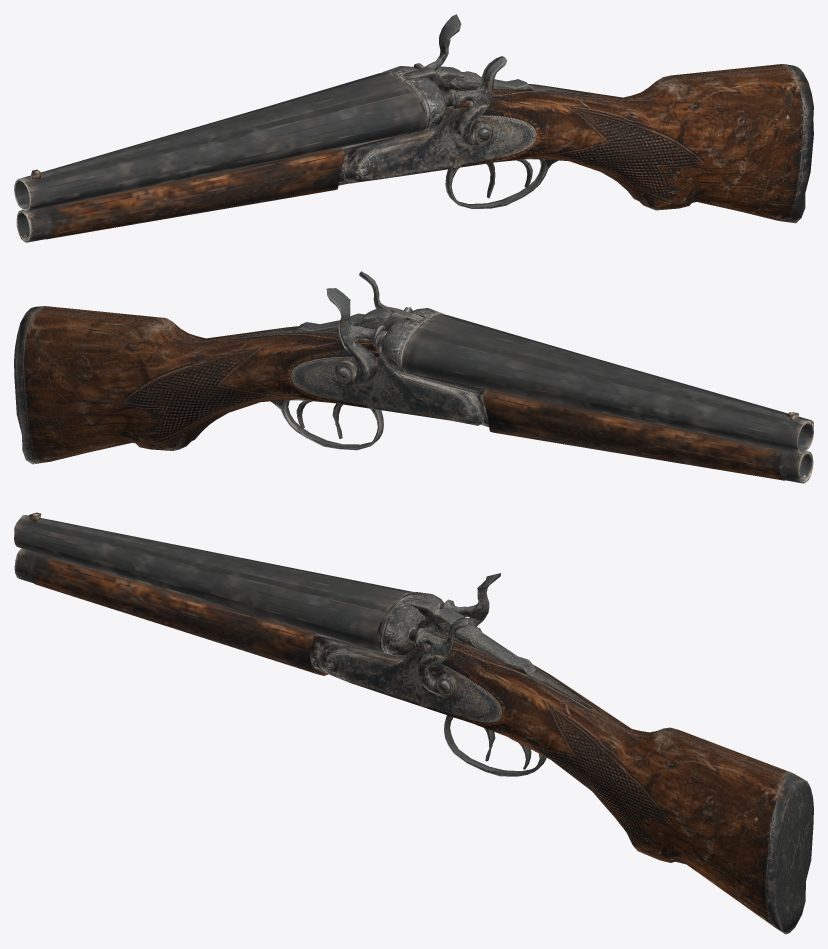
File: Meshy_AI_model.fbx
The picture shows the model from 3 angles, top to bottom: view 1: azimuth 30°, elevation 25°; view 2: azimuth 150°, elevation 25°; view 3: azimuth 330°, elevation 25°; orthographic projection.
Visible parts, largest first — view 1: Mesh_0; view 2: Mesh_0; view 3: Mesh_0.
Part boxes in pixels (x1,y1,x2,y2): Mesh_0: [14, 14, 813, 242]; Mesh_0: [14, 271, 813, 483]; Mesh_0: [14, 512, 813, 934].
Size of the model in its own units: 95.7 by 31.49 by 10.45.
1 material, 1 textured.
